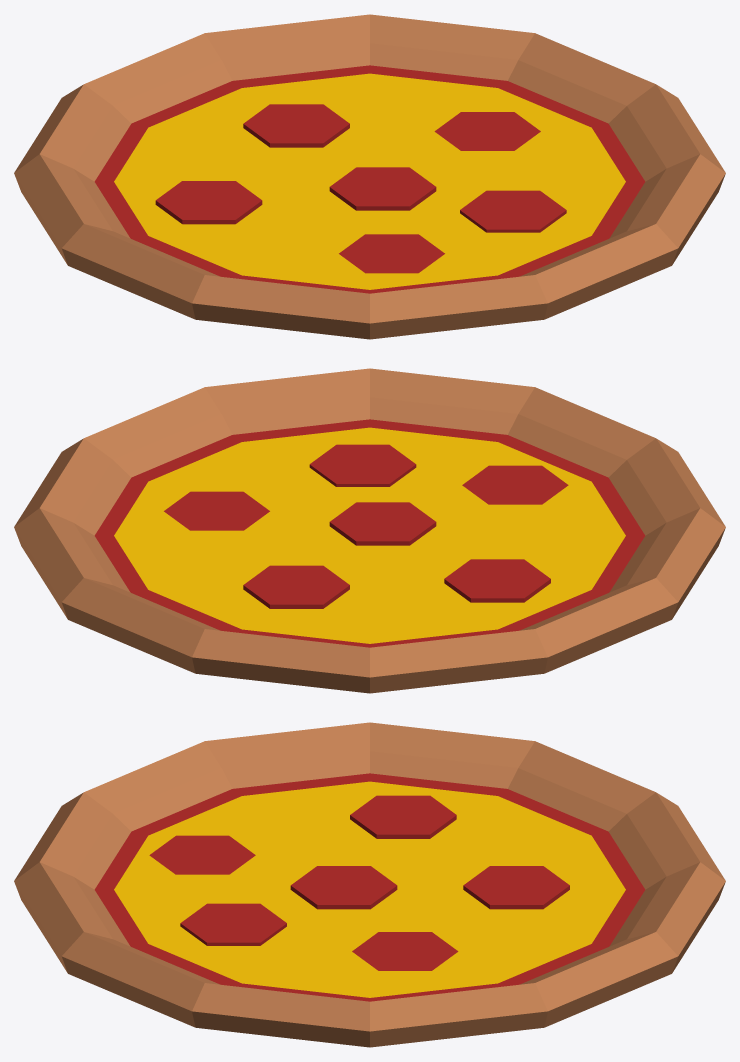
The model's file is pizza-2.fbx.
The picture shows the model from 3 angles, top to bottom: view 1: azimuth 30°, elevation 25°; view 2: azimuth 150°, elevation 25°; view 3: azimuth 270°, elevation 25°; orthographic projection.
Visible parts, largest first — view 1: Circle; view 2: Circle; view 3: Circle.
Part boxes in pixels (box(x1,y1,x2,y2)): Circle: box(14, 14, 725, 339); Circle: box(14, 368, 725, 693); Circle: box(14, 722, 725, 1047).
Bounding box in the file's own units: 185 × 10.92 × 185.
